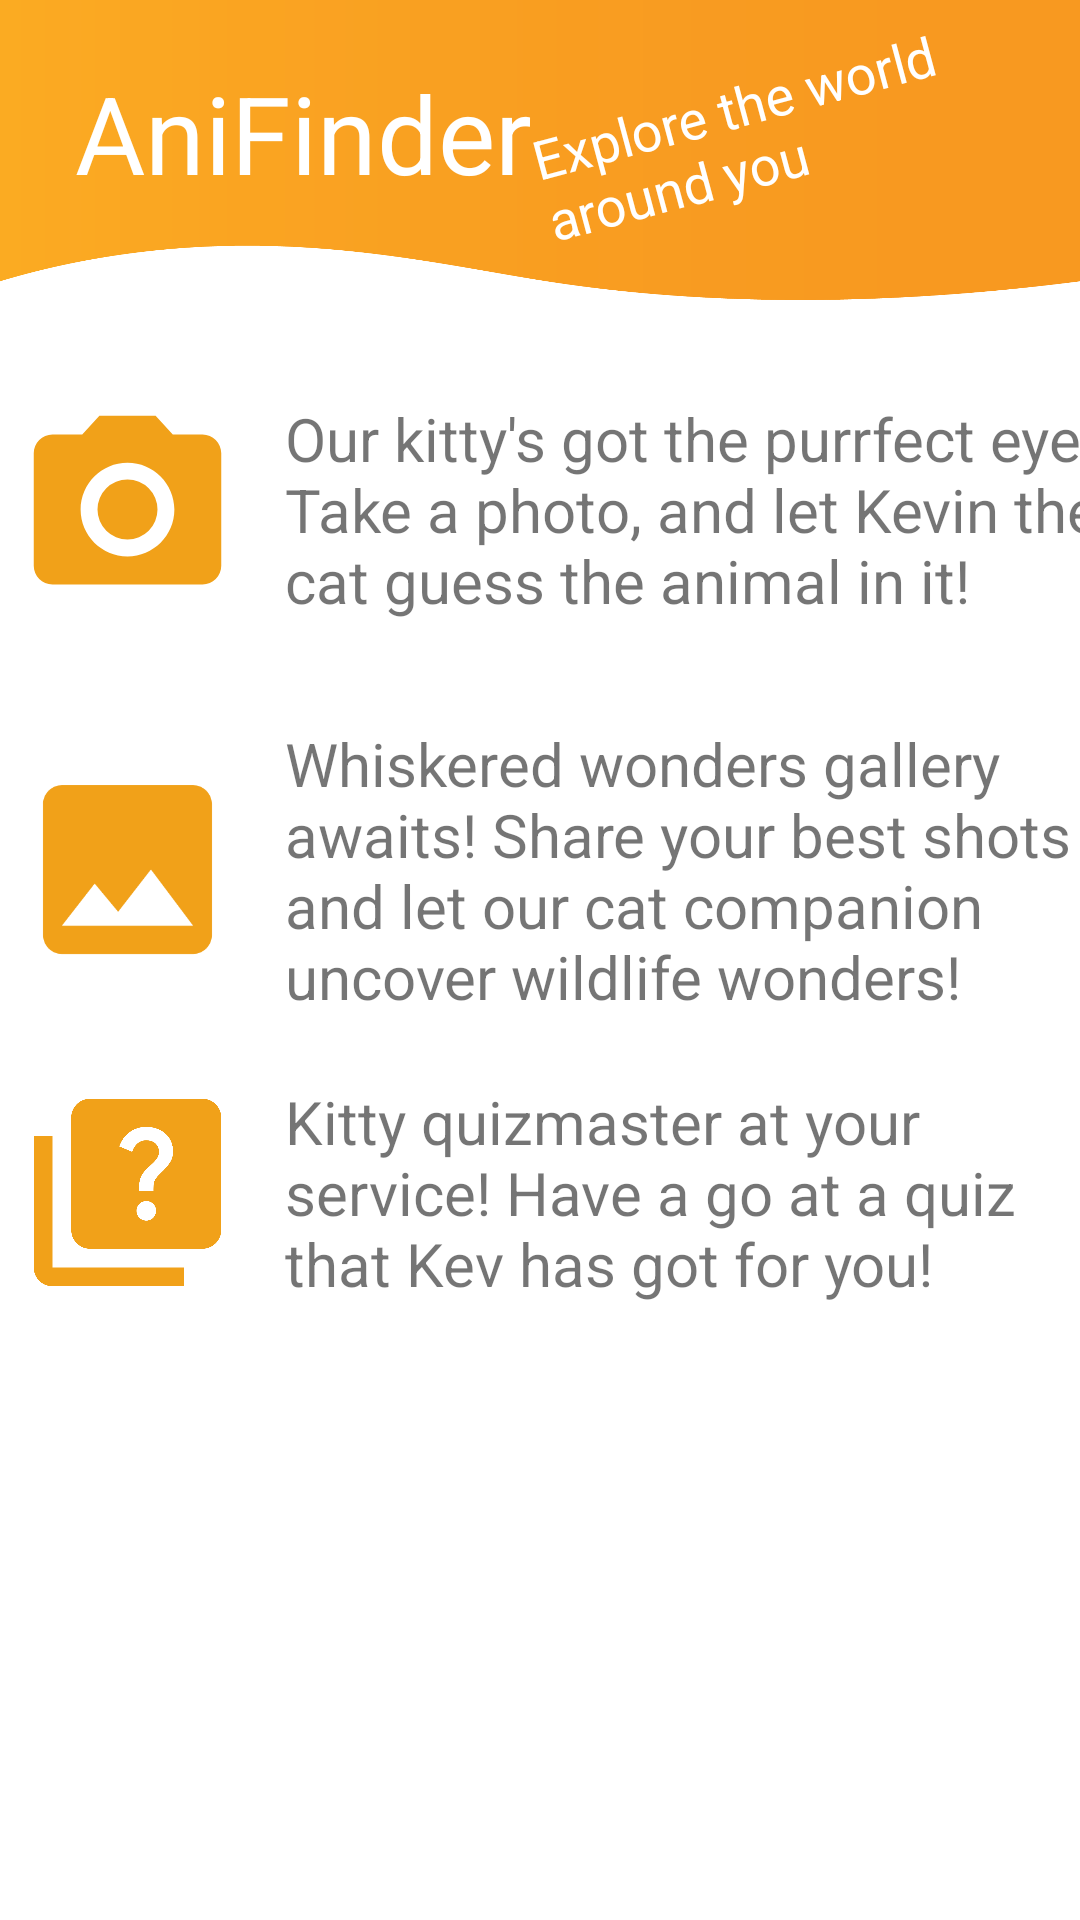

Icon click points for this 1080*1920 phone screenshot, format point (x, y):
camera: point (127, 500)
